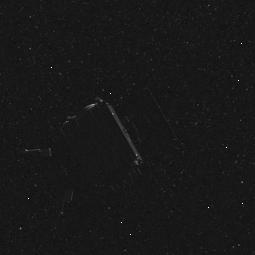proba_2: (15, 85, 164, 220)
